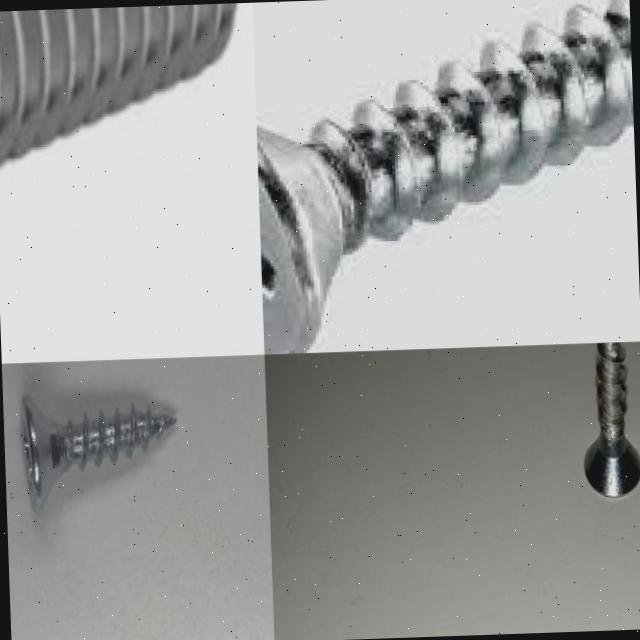Screw: (256, 0, 634, 354), (0, 3, 236, 160), (18, 388, 180, 518), (583, 342, 640, 496)
